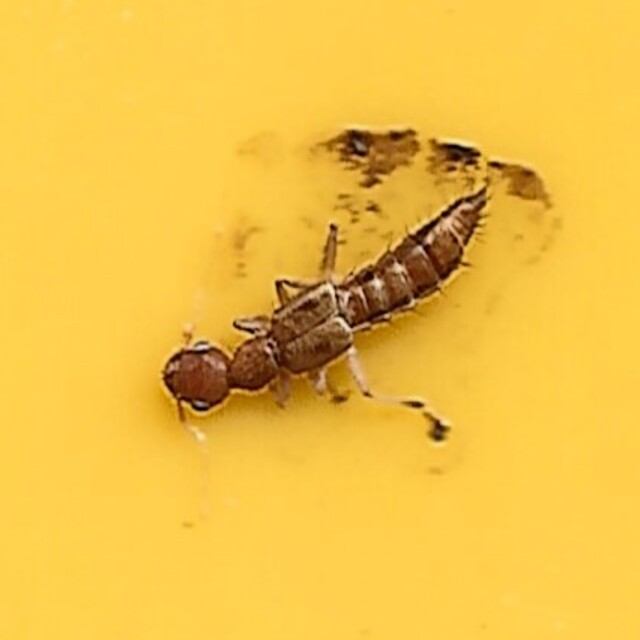Coleoptera: (150, 183, 490, 457)
